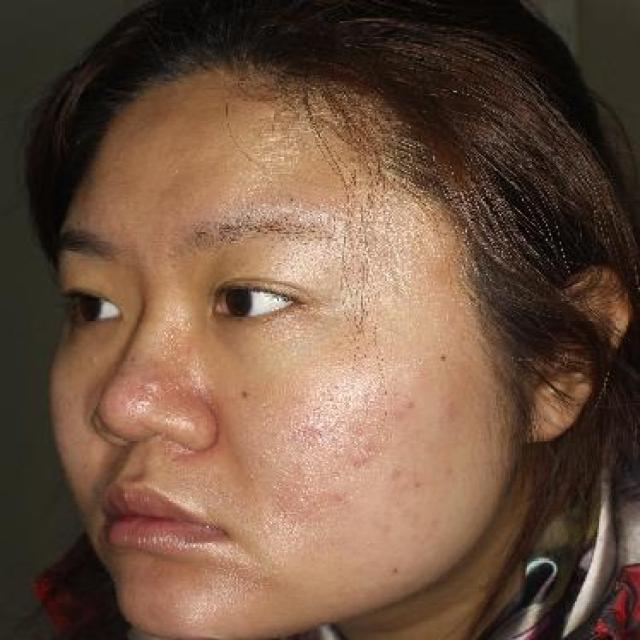acne: (136, 368, 176, 402), (228, 381, 262, 414), (428, 343, 466, 368), (402, 474, 430, 497), (397, 392, 421, 418), (384, 558, 406, 580)
